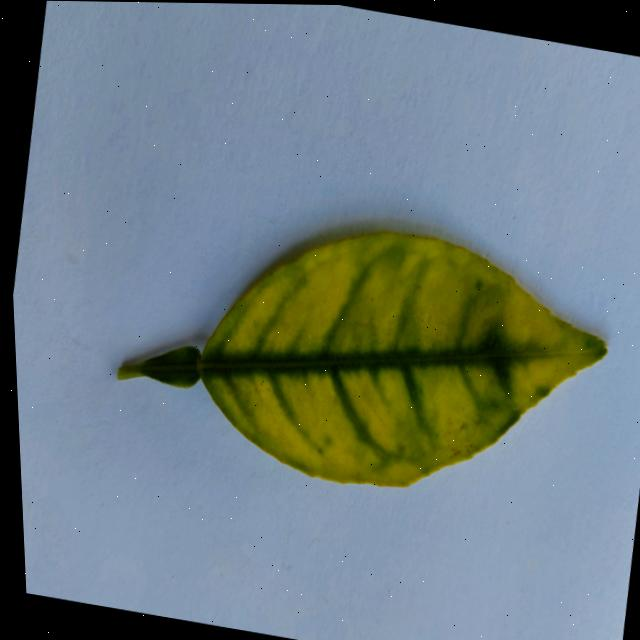greening: (156, 232, 606, 485)
